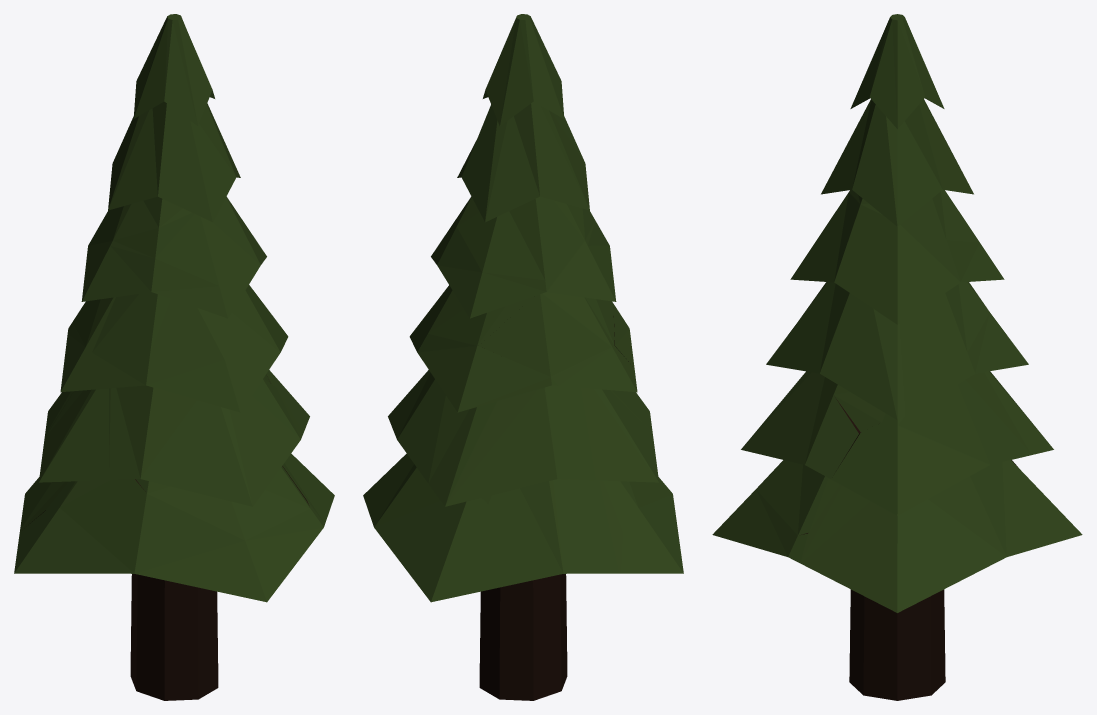
File: Tree4_fract.FBX
3 renders of one model, left to right at view 1: azimuth 30°, elevation 25°; view 2: azimuth 150°, elevation 25°; view 3: azimuth 270°, elevation 25°, orthographic.
Visible parts, largest first — view 1: pine tree_Part_9, pine tree_Part_10, pine tree_Part_4, pine tree_Part_6, pine tree_Part_1, pine tree_Part_8, pine tree_Part_7, pine tree_Part_5, pine tree_Part_3; view 2: pine tree_Part_4, pine tree_Part_2, pine tree_Part_5, pine tree_Part_9, pine tree_Part_7, pine tree_Part_6, pine tree_Part_8, pine tree_Part_1, pine tree_Part_3, pine tree_Part_10; view 3: pine tree_Part_7, pine tree_Part_1, pine tree_Part_4, pine tree_Part_10, pine tree_Part_9, pine tree_Part_2, pine tree_Part_6.
Boxes of the visible parts, <box> form: pine tree_Part_9: <box>14,479,324,700</box>; pine tree_Part_10: <box>92,351,310,540</box>; pine tree_Part_4: <box>93,14,240,240</box>; pine tree_Part_6: <box>72,246,285,383</box>; pine tree_Part_1: <box>88,196,288,340</box>; pine tree_Part_8: <box>39,325,110,510</box>; pine tree_Part_7: <box>266,370,334,523</box>; pine tree_Part_5: <box>20,323,72,530</box>; pine tree_Part_3: <box>20,391,73,531</box>; pine tree_Part_4: <box>456,14,589,280</box>; pine tree_Part_2: <box>409,333,550,506</box>; pine tree_Part_5: <box>484,376,618,590</box>; pine tree_Part_9: <box>479,477,683,700</box>; pine tree_Part_7: <box>363,370,505,645</box>; pine tree_Part_6: <box>478,220,616,376</box>; pine tree_Part_8: <box>554,346,658,531</box>; pine tree_Part_1: <box>409,196,595,345</box>; pine tree_Part_3: <box>548,385,623,573</box>; pine tree_Part_10: <box>612,304,652,432</box>; pine tree_Part_7: <box>800,422,1082,653</box>; pine tree_Part_1: <box>807,183,1004,420</box>; pine tree_Part_4: <box>826,14,979,242</box>; pine tree_Part_10: <box>741,323,860,535</box>; pine tree_Part_9: <box>712,489,945,700</box>; pine tree_Part_2: <box>882,312,1053,454</box>; pine tree_Part_6: <box>790,254,889,431</box>.
Size of the model in its own units: 1216 by 2408 by 1216.
